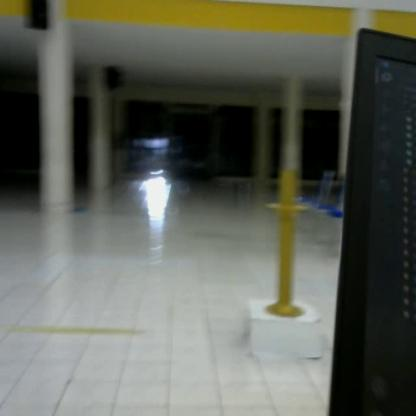pole: (262, 170, 313, 326)
